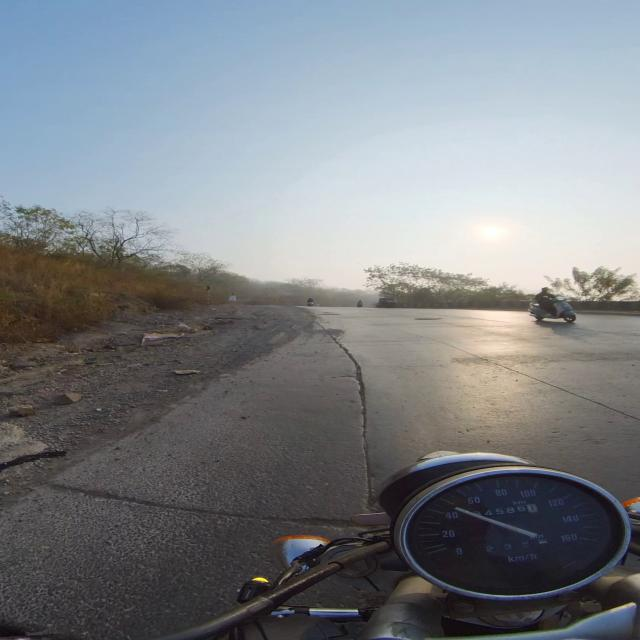motorcycle: (164, 452, 639, 639), (530, 297, 576, 322)
